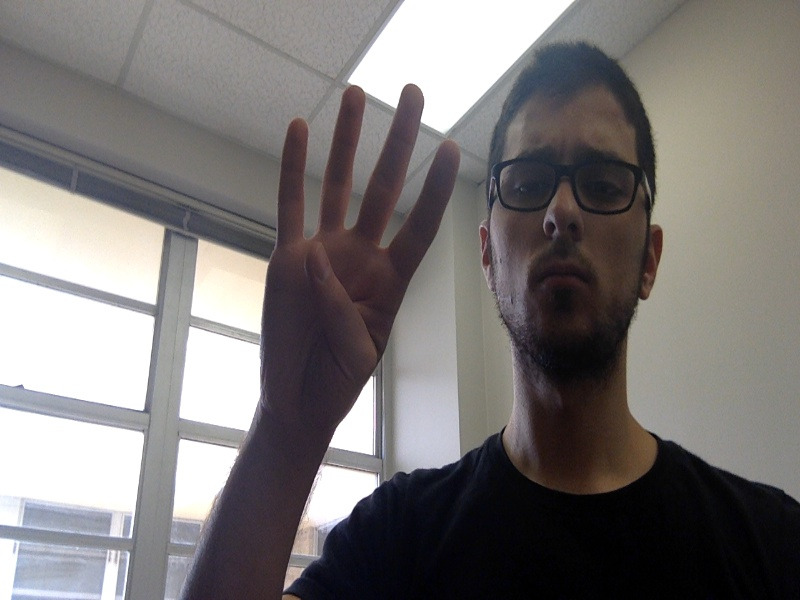4-hand: (262, 82, 460, 411)
